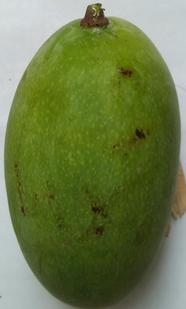Unripe: (1, 1, 186, 309)
